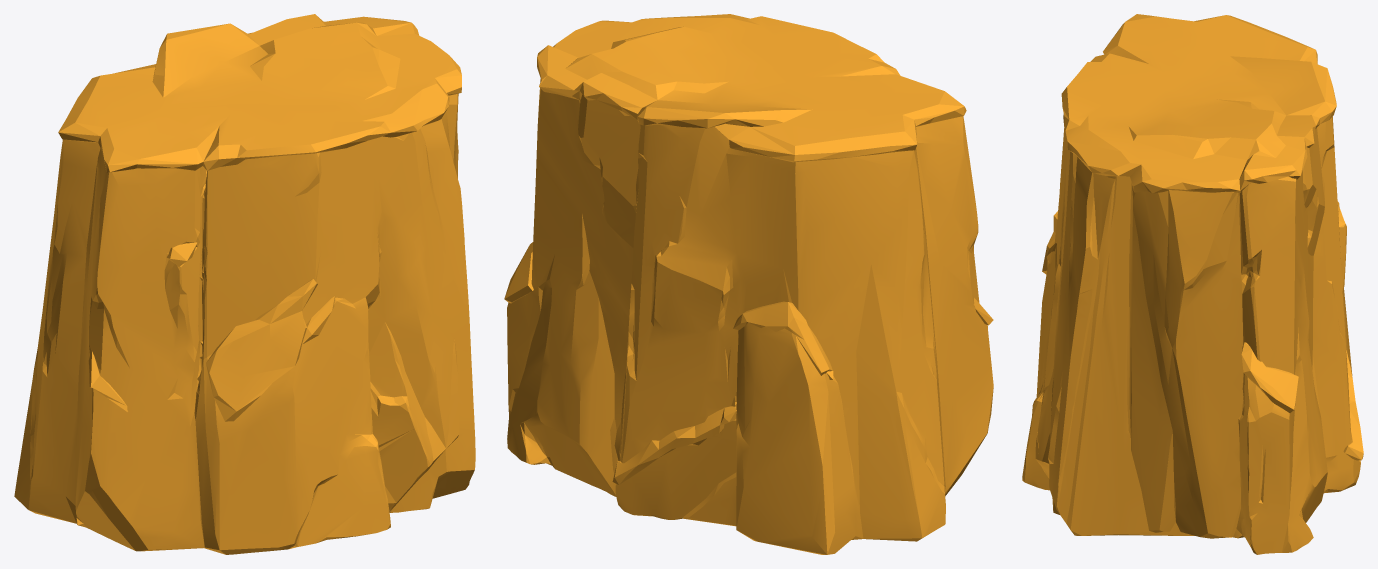
File: SM_Iceberg_Big_C_Snow.fbx
The picture shows the model from 3 angles, left to right: view 1: azimuth 30°, elevation 25°; view 2: azimuth 150°, elevation 25°; view 3: azimuth 270°, elevation 25°; orthographic projection. The views are drawn at different scales.
Visible parts, largest first — view 1: iceberg-big-c-snow; view 2: iceberg-big-c-snow; view 3: iceberg-big-c-snow.
Boxes of the visible parts, left/top/right/bottom form: iceberg-big-c-snow: left=14, top=14, right=475, bottom=554; iceberg-big-c-snow: left=504, top=14, right=993, bottom=554; iceberg-big-c-snow: left=1022, top=14, right=1363, bottom=554.
Bounding box in the file's own units: 26.24 × 24.54 × 19.33.
